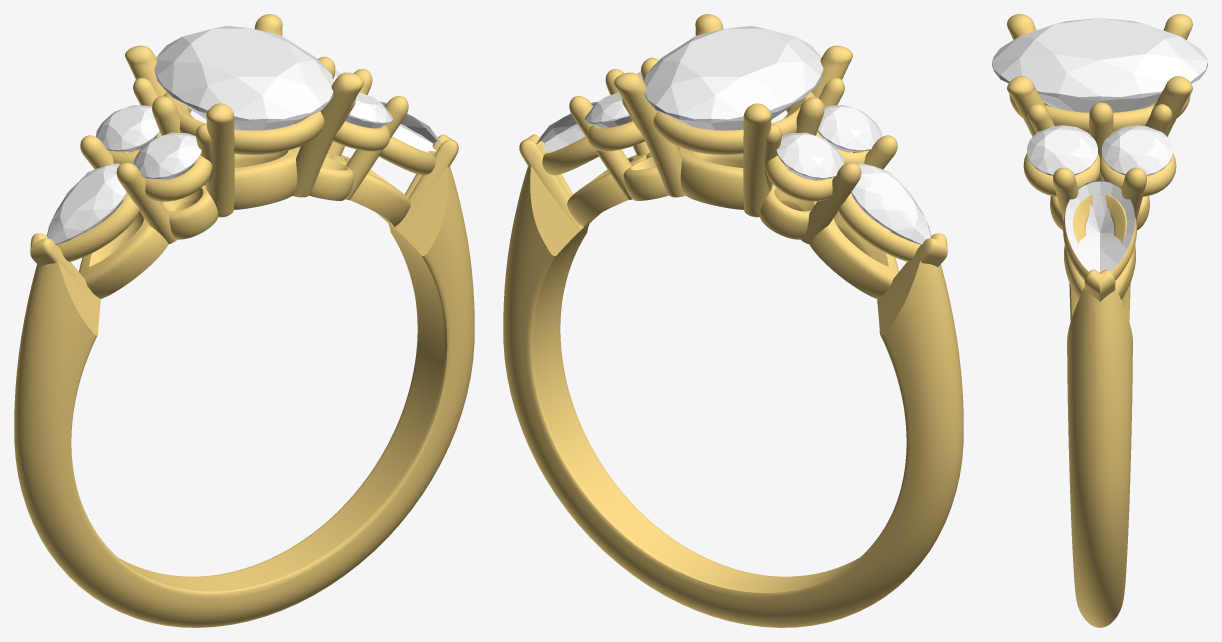
Rendered from RyanYG2_webgi.glb.
3 views of the same model, side by side, from view 1: azimuth 30°, elevation 25°; view 2: azimuth 150°, elevation 25°; view 3: azimuth 270°, elevation 25° (orthographic).
Visible parts, largest first — view 1: new_Ryan_YG_for_3d_model, new_Ryan_sapph_for_3d_model, new_Ryan_dia_for_3d_model001, new_Ryan_dia_for_3d_model005, new_Ryan_dia_for_3d_model004, new_Ryan_dia_for_3d_model, new_Ryan_dia_for_3d_model002; view 2: new_Ryan_YG_for_3d_model, new_Ryan_sapph_for_3d_model, new_Ryan_dia_for_3d_model001, new_Ryan_dia_for_3d_model004, new_Ryan_dia_for_3d_model005, new_Ryan_dia_for_3d_model003, new_Ryan_dia_for_3d_model002; view 3: new_Ryan_YG_for_3d_model, new_Ryan_sapph_for_3d_model, new_Ryan_dia_for_3d_model002, new_Ryan_dia_for_3d_model, new_Ryan_dia_for_3d_model003.
Part boxes in pixels (x1,y1,x2,y2): new_Ryan_YG_for_3d_model: (14, 14, 474, 627); new_Ryan_sapph_for_3d_model: (154, 26, 333, 130); new_Ryan_dia_for_3d_model001: (46, 163, 126, 244); new_Ryan_dia_for_3d_model005: (133, 132, 201, 179); new_Ryan_dia_for_3d_model004: (96, 105, 159, 152); new_Ryan_dia_for_3d_model: (345, 92, 392, 128); new_Ryan_dia_for_3d_model002: (379, 101, 441, 151); new_Ryan_YG_for_3d_model: (503, 14, 963, 627); new_Ryan_sapph_for_3d_model: (644, 26, 823, 130); new_Ryan_dia_for_3d_model001: (851, 163, 931, 244); new_Ryan_dia_for_3d_model004: (776, 132, 844, 179); new_Ryan_dia_for_3d_model005: (817, 105, 881, 152); new_Ryan_dia_for_3d_model003: (585, 92, 632, 128); new_Ryan_dia_for_3d_model002: (536, 101, 598, 151); new_Ryan_YG_for_3d_model: (1007, 14, 1192, 627); new_Ryan_sapph_for_3d_model: (992, 18, 1207, 112); new_Ryan_dia_for_3d_model002: (1065, 180, 1134, 272); new_Ryan_dia_for_3d_model: (1027, 125, 1097, 175); new_Ryan_dia_for_3d_model003: (1102, 125, 1172, 175).
Size of the model in its own units: 2.48 by 2.96 by 1.03.
